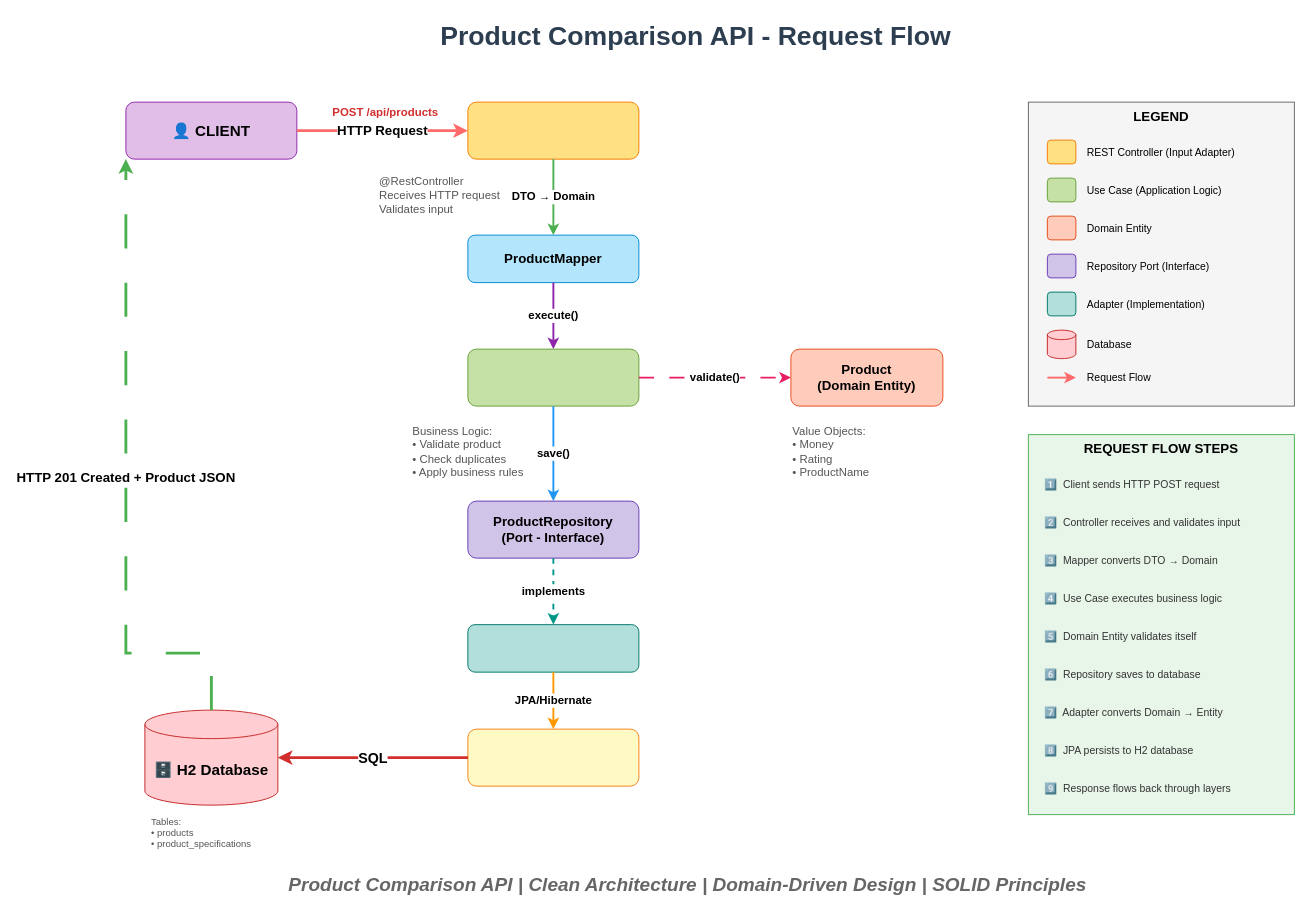
This 1311x914 diagram has some shape labels left out. The shapes that lost their labels are listed below. From the top down, each one's centre as x and y in pixels, then its label:
At point (553, 130): "ProductController".
At point (553, 377): "CreateProductUseCase".
At point (553, 648): "ProductRepositoryAdapter".
At point (553, 757): "ProductJpaRepository (Spring Data JPA)".
